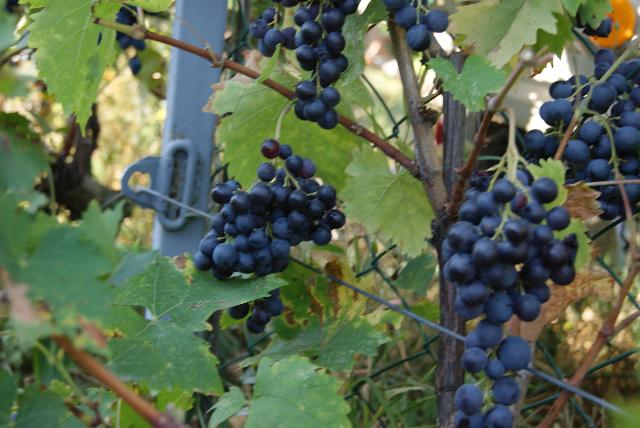grapes: (441, 169, 579, 428), (194, 139, 345, 280), (524, 59, 640, 209), (596, 184, 625, 220)
